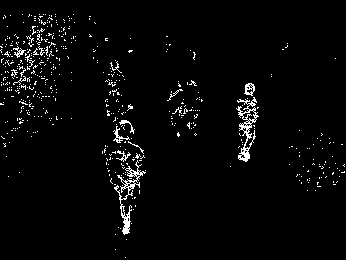person: (100, 120, 145, 236), (237, 81, 259, 162), (104, 59, 127, 118)
